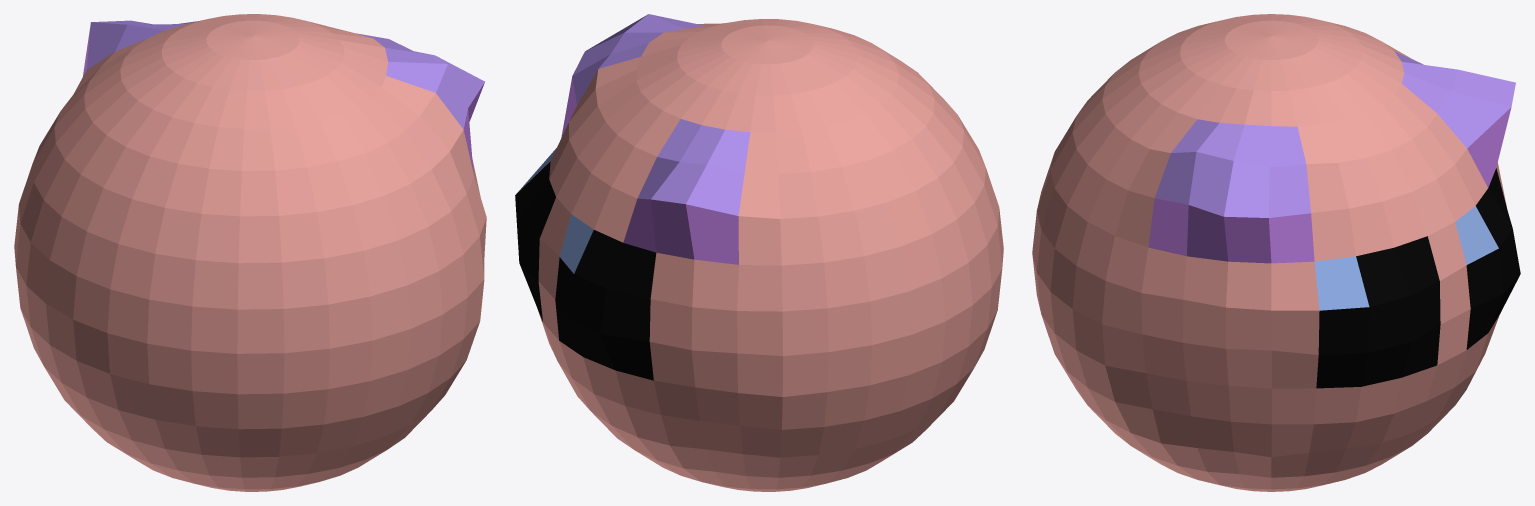
File: shopkeeper.fbx
3 renders of one model, left to right at view 1: azimuth 30°, elevation 25°; view 2: azimuth 150°, elevation 25°; view 3: azimuth 270°, elevation 25°, orthographic.
Parts seen in each view (by area): view 1: Sphere; view 2: Sphere; view 3: Sphere.
Boxes of the visible parts, x1,y1,x2,y2 form: Sphere: (14, 14, 486, 491); Sphere: (515, 14, 1003, 491); Sphere: (1032, 14, 1520, 491).
Size of the model in its own units: 201 by 200 by 204.
